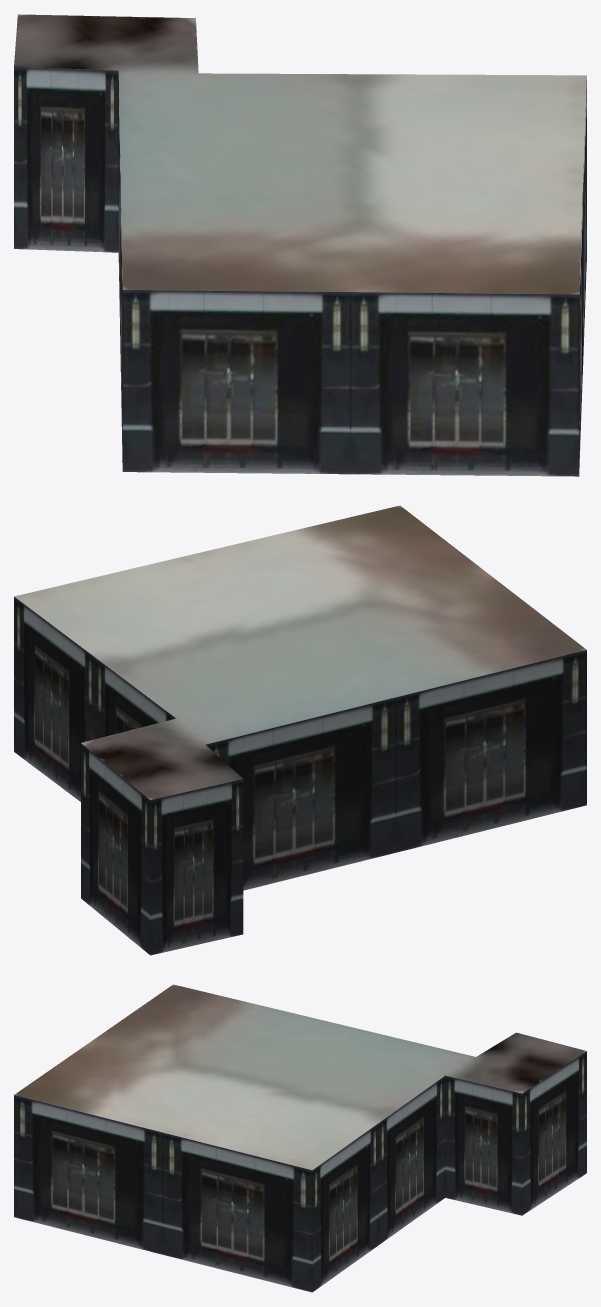
3 renders of one model, top to bottom at view 1: azimuth 30°, elevation 25°; view 2: azimuth 150°, elevation 25°; view 3: azimuth 270°, elevation 25°, orthographic. The views are drawn at different scales.
Parts seen in each view (by area): view 1: SketchUp (×5); view 2: SketchUp (×5); view 3: SketchUp (×5).
Part boxes in pixels (x1,y1,x2,y2): SketchUp (×5): [14, 14, 586, 476]; SketchUp (×5): [14, 505, 586, 955]; SketchUp (×5): [14, 984, 586, 1292].
Bounding box in the file's own units: 12.53 × 16.32 × 3.84.
2 materials, 2 textured.
